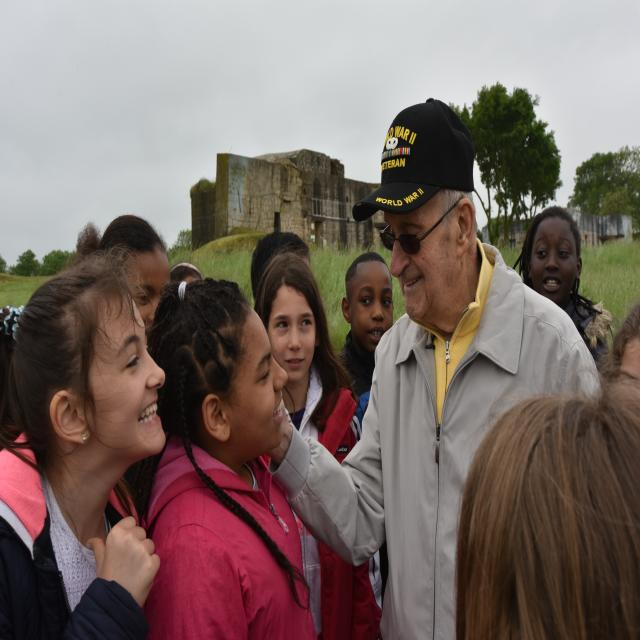body: (250, 94, 612, 640), (0, 248, 176, 640), (141, 274, 319, 640), (253, 247, 386, 640), (448, 395, 640, 640), (335, 250, 395, 608), (512, 204, 614, 379), (87, 208, 216, 340), (239, 212, 321, 304), (592, 297, 640, 392)
